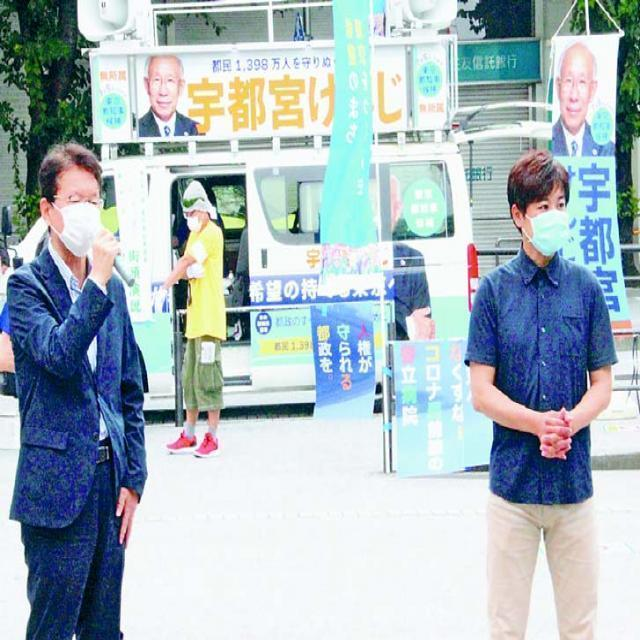direk: (464, 151, 615, 640), (6, 139, 149, 640), (168, 180, 232, 462), (548, 47, 622, 159), (137, 52, 205, 140)
